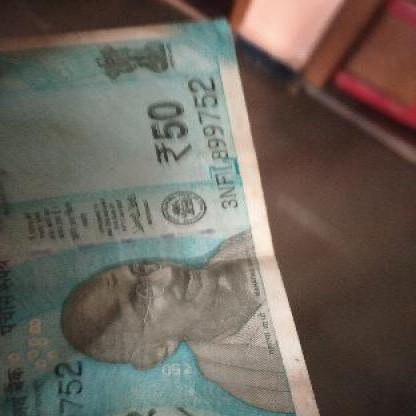New50Front: (0, 21, 328, 415)
